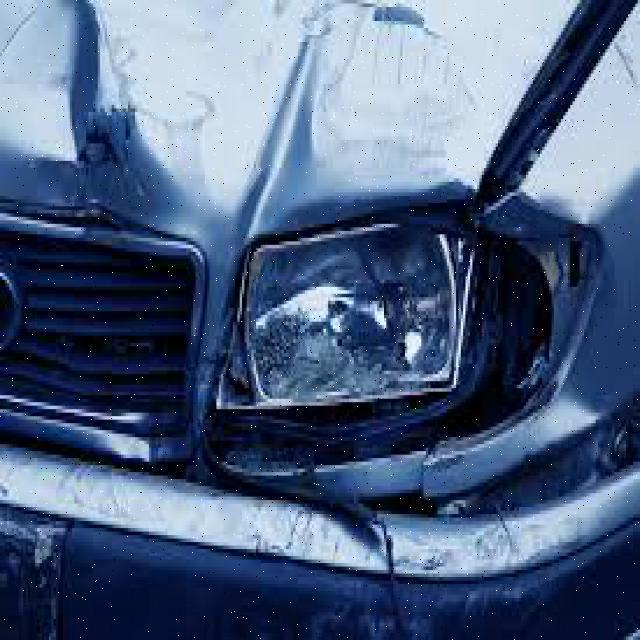Headlight-Damage: (210, 220, 572, 440)
bonnet-dent: (0, 0, 477, 210)
front-bumper-dent: (0, 433, 629, 637)
